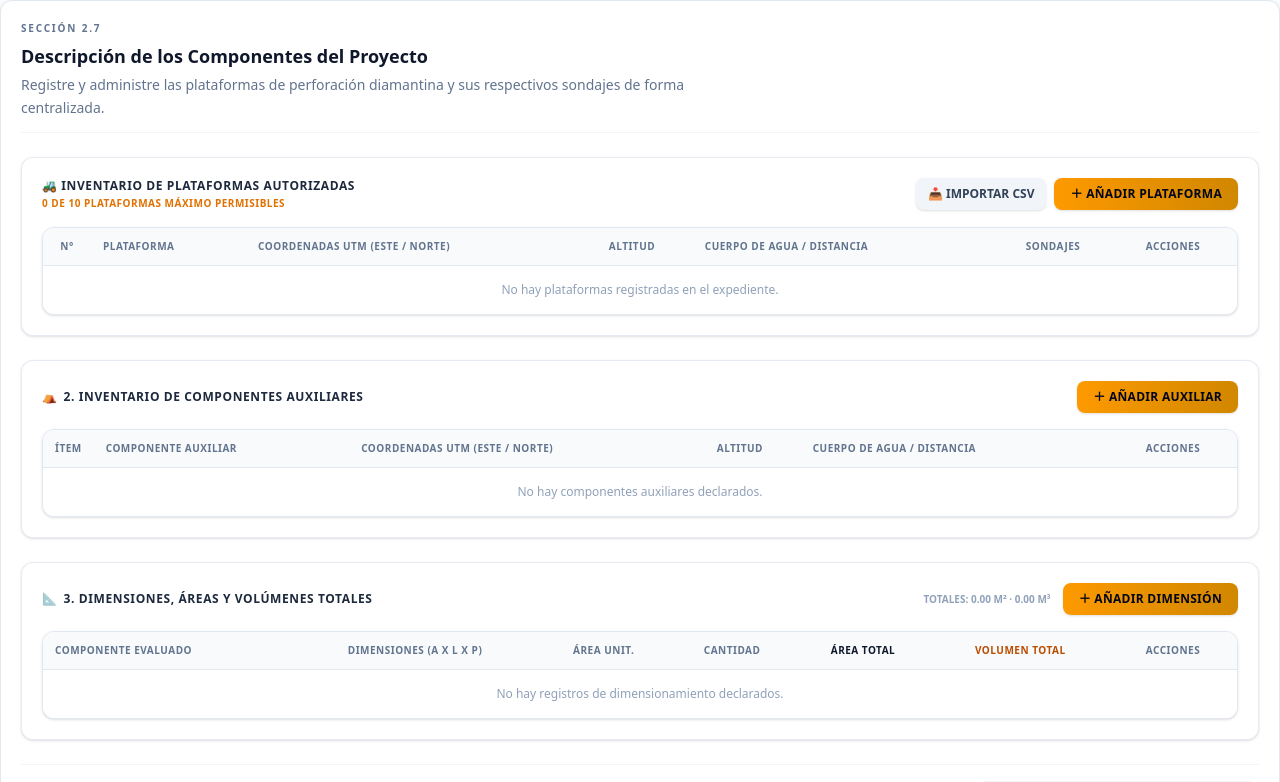
Test: ComponentesComponent › inventario de plataformas › no hay mini-tabla de sondajes hasta que se abre el popup
This screenshot has width=1280, height=782.
Click the button "＋ Añadir Plataforma". click: {"x": 1146, "y": 194}
box: [1054,178,1238,210]
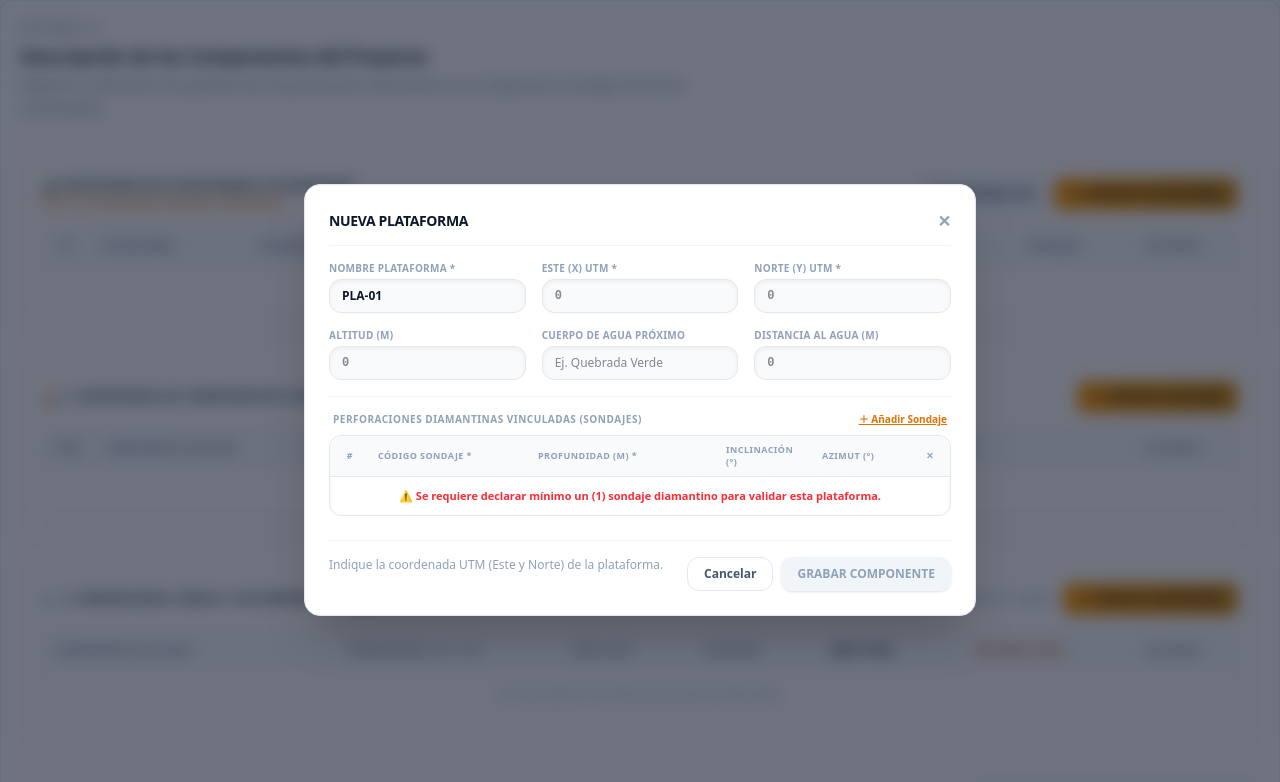
Expected: the table with class "tabla-sondajes" is shown, [330,436,950,515]
